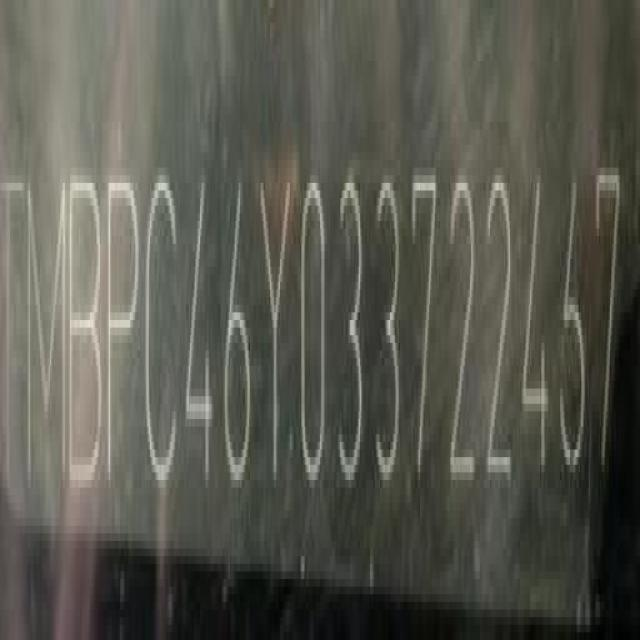0: (302, 166, 330, 497)
2: (482, 168, 516, 496), (452, 169, 481, 495)
3: (340, 171, 370, 499), (377, 166, 406, 497)
4: (183, 165, 220, 507), (522, 171, 553, 495)
6: (221, 171, 254, 504), (557, 160, 589, 489)
7: (411, 163, 441, 498)
B: (66, 170, 105, 516)
C: (144, 169, 182, 508)
M: (25, 170, 67, 517)
P: (105, 168, 142, 514)
T: (596, 157, 628, 490), (1, 168, 26, 519)
Y: (260, 161, 290, 482)
